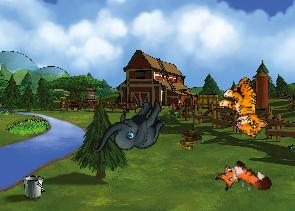elephant: (92, 87, 171, 173)
fox: (212, 152, 274, 209)
tiger: (211, 72, 281, 141)
